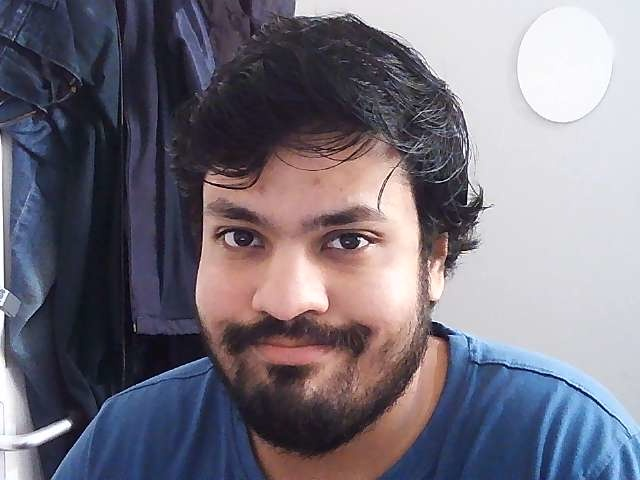Face: (173, 13, 457, 442)
